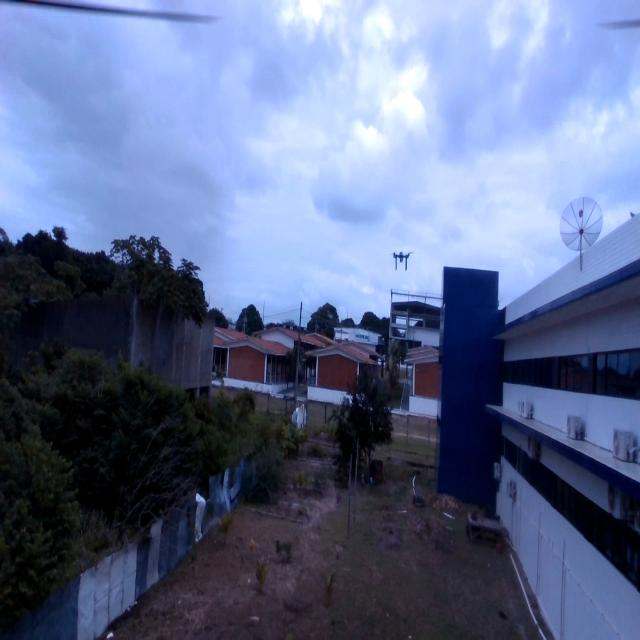-uav-: (388, 243, 419, 278)
